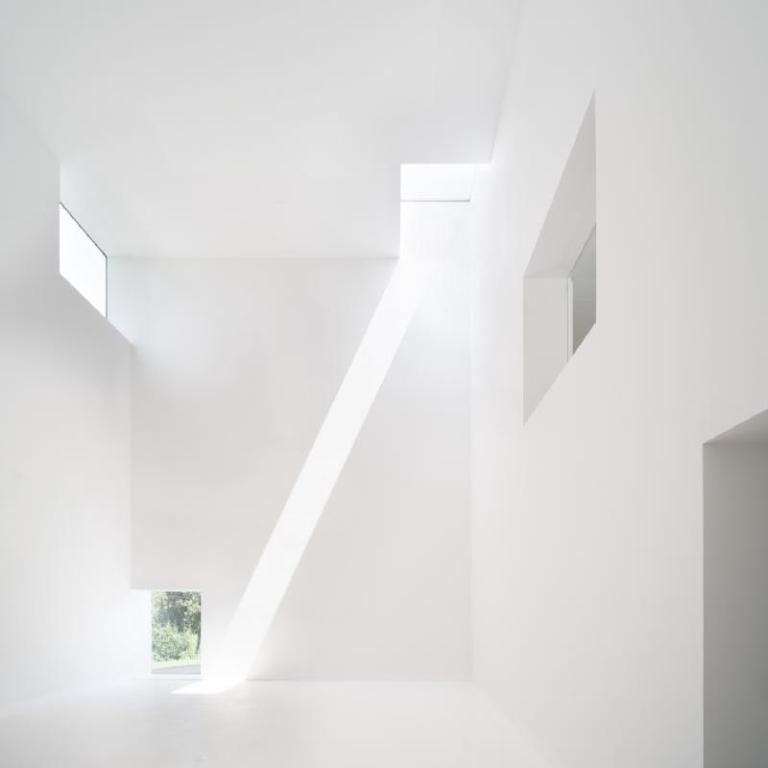white-walls: (32, 56, 342, 544)
